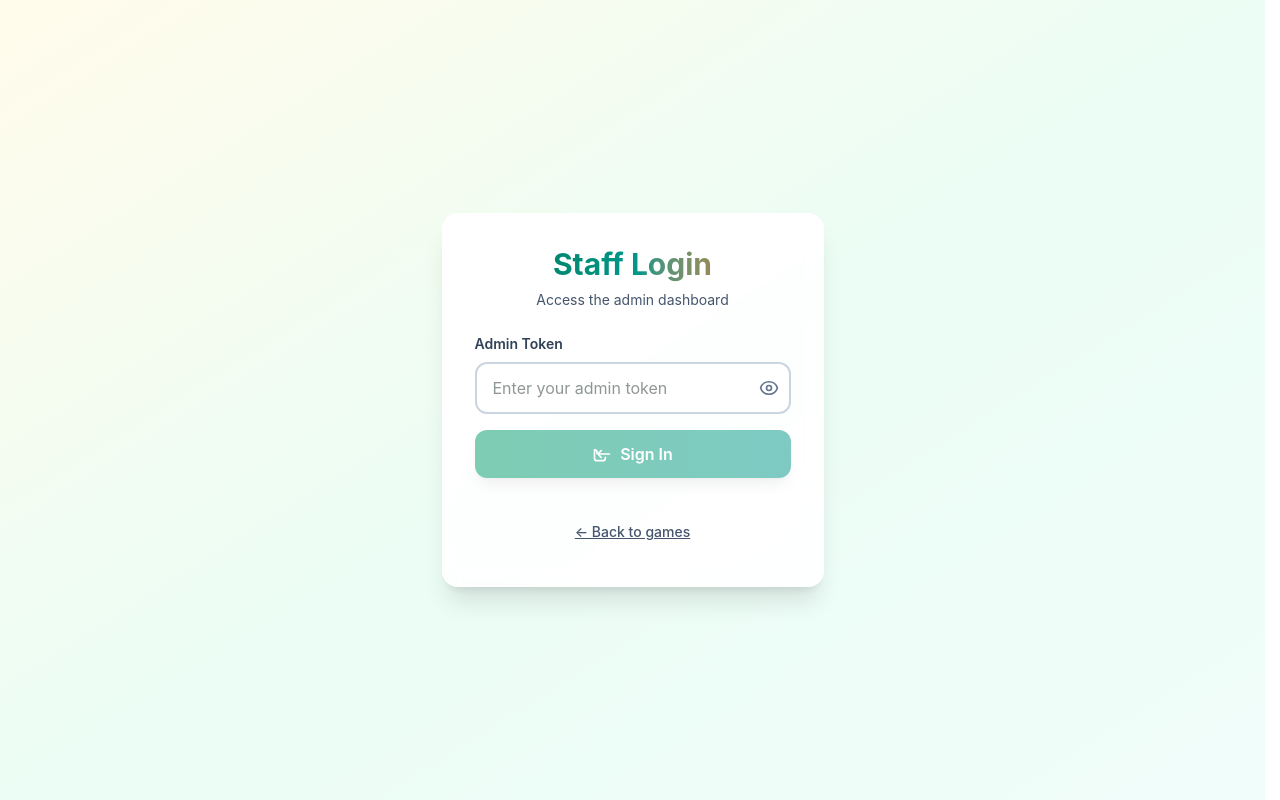
Test: AdminLogin Page › toggles token visibility
The width and height of the screenshot is (1280, 800).
Click the button named "show token": (768, 388) [746,362,790,414]
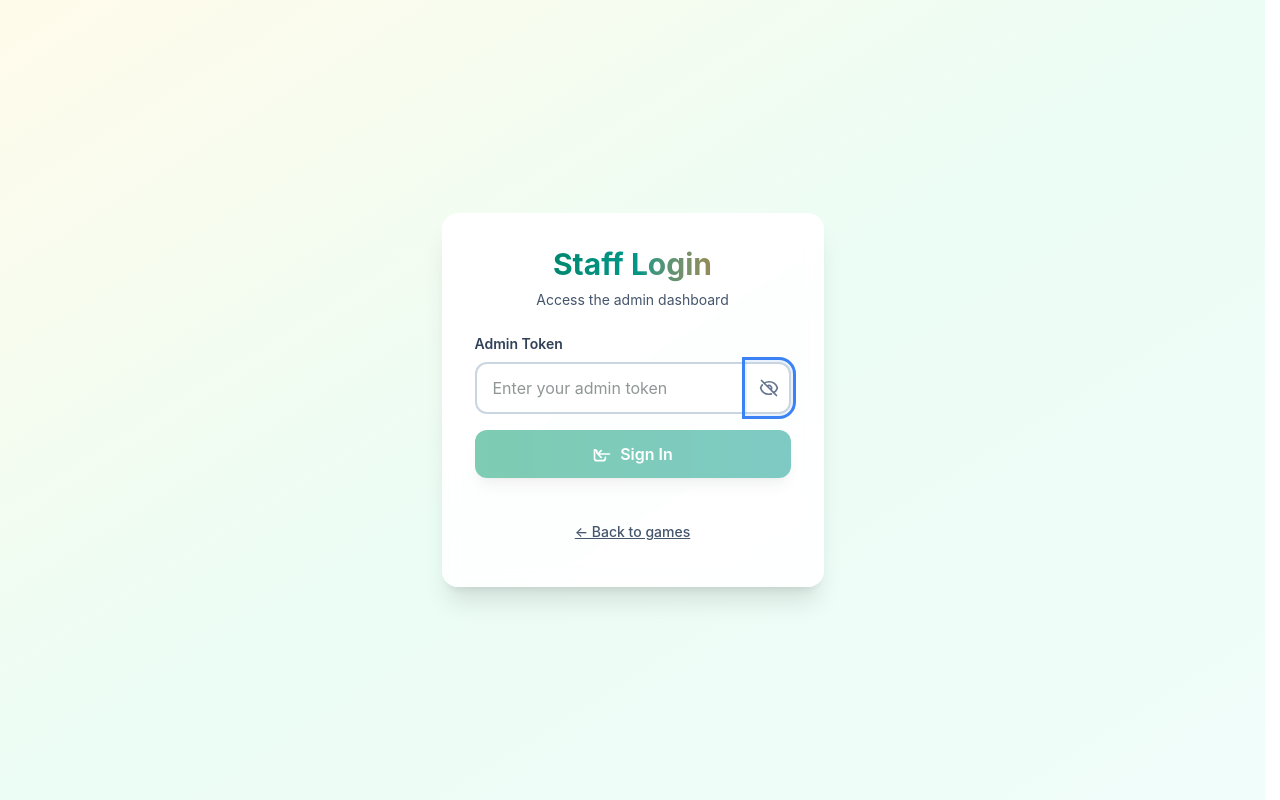
Result: the button named "hide token" is shown at [746,362,790,414]
